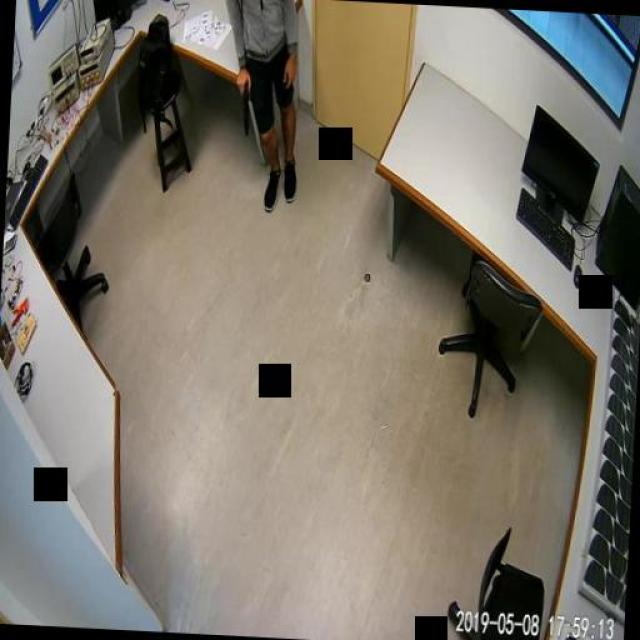gun: (232, 73, 252, 135)
